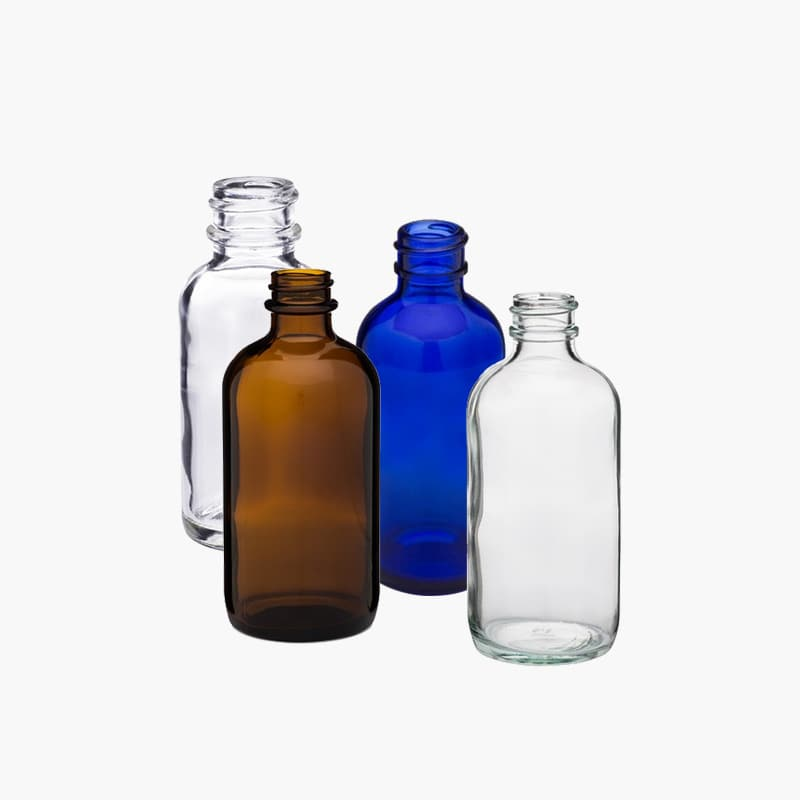glass_bottle: (145, 148, 671, 699)
